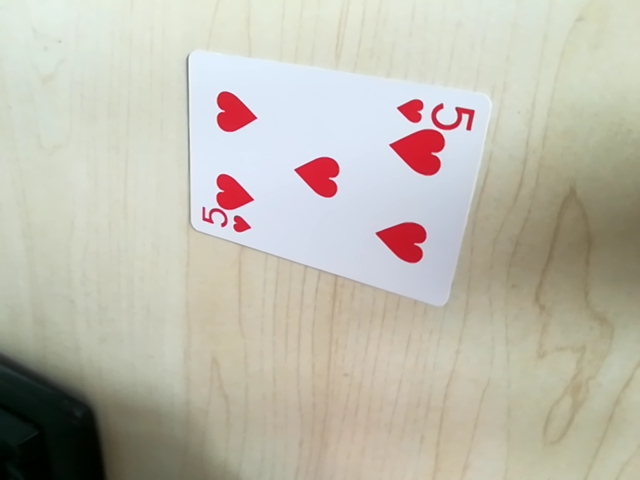hx 5: (394, 92, 480, 131), (198, 207, 256, 237)
